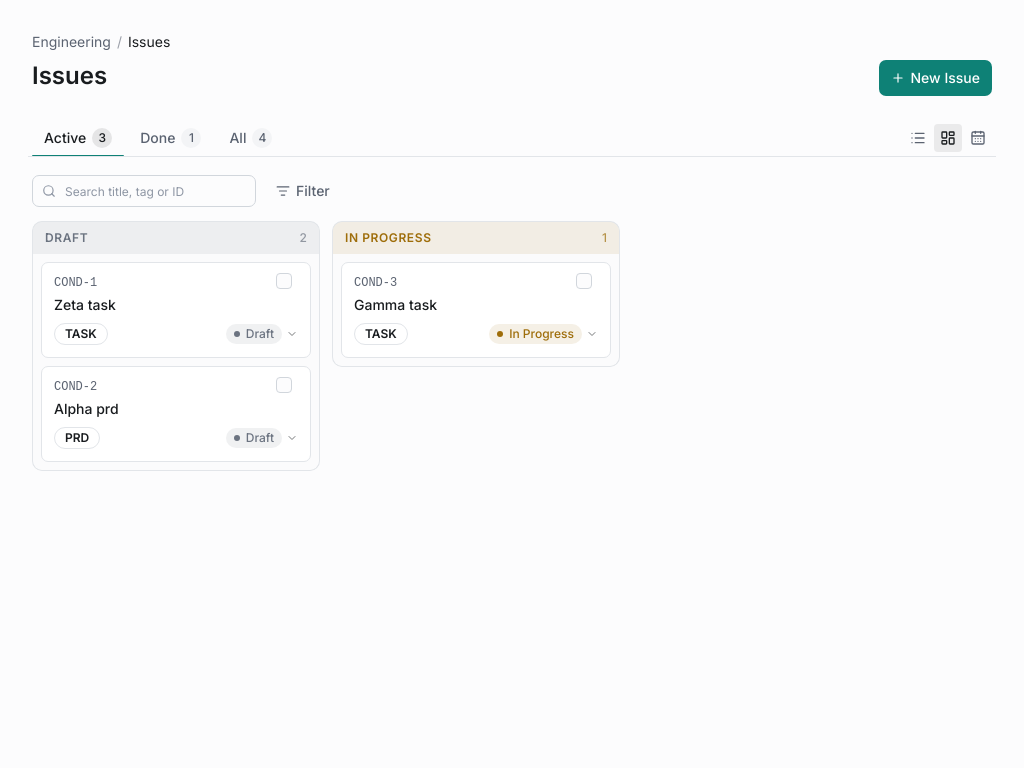
Test: bulk results and selection in every view › selects cards on the board and shows the bulk bar
The width and height of the screenshot is (1024, 768).
Click the checkbox named "Select Zeta task" in the row of "COND-1" at (284, 281), box [276,273,292,289]
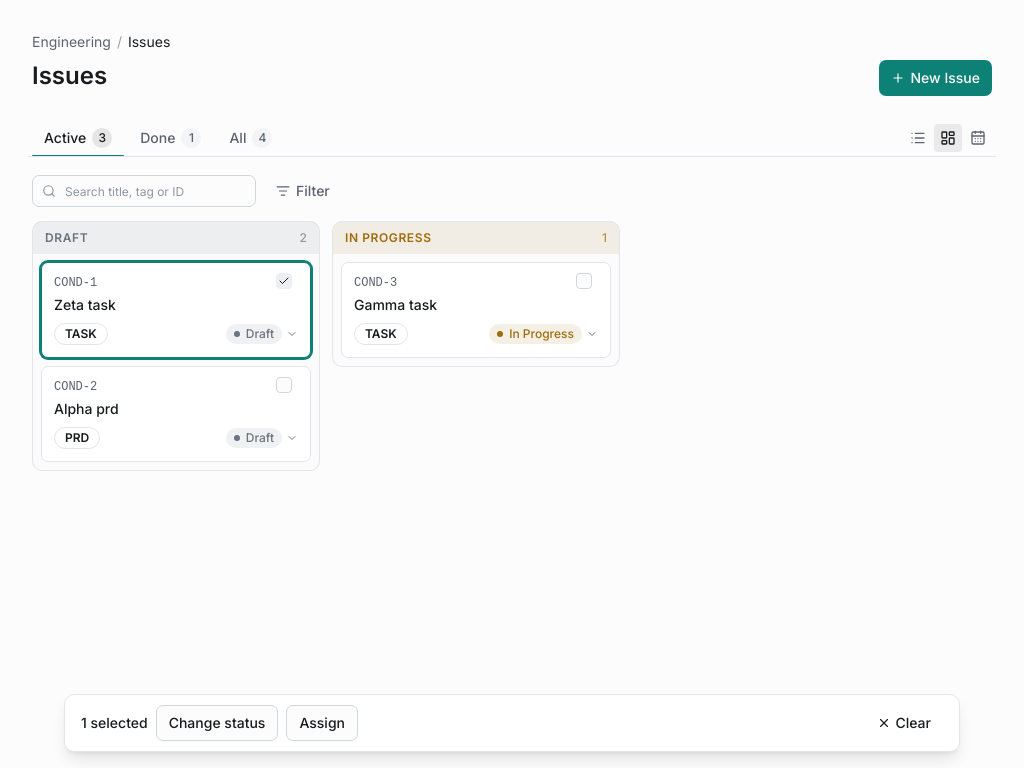
Expected: the text "1 selected" is shown, [81,713,148,733]
